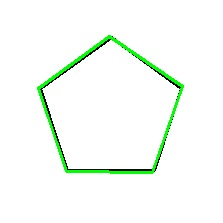line_segment: (38, 36, 183, 173)
